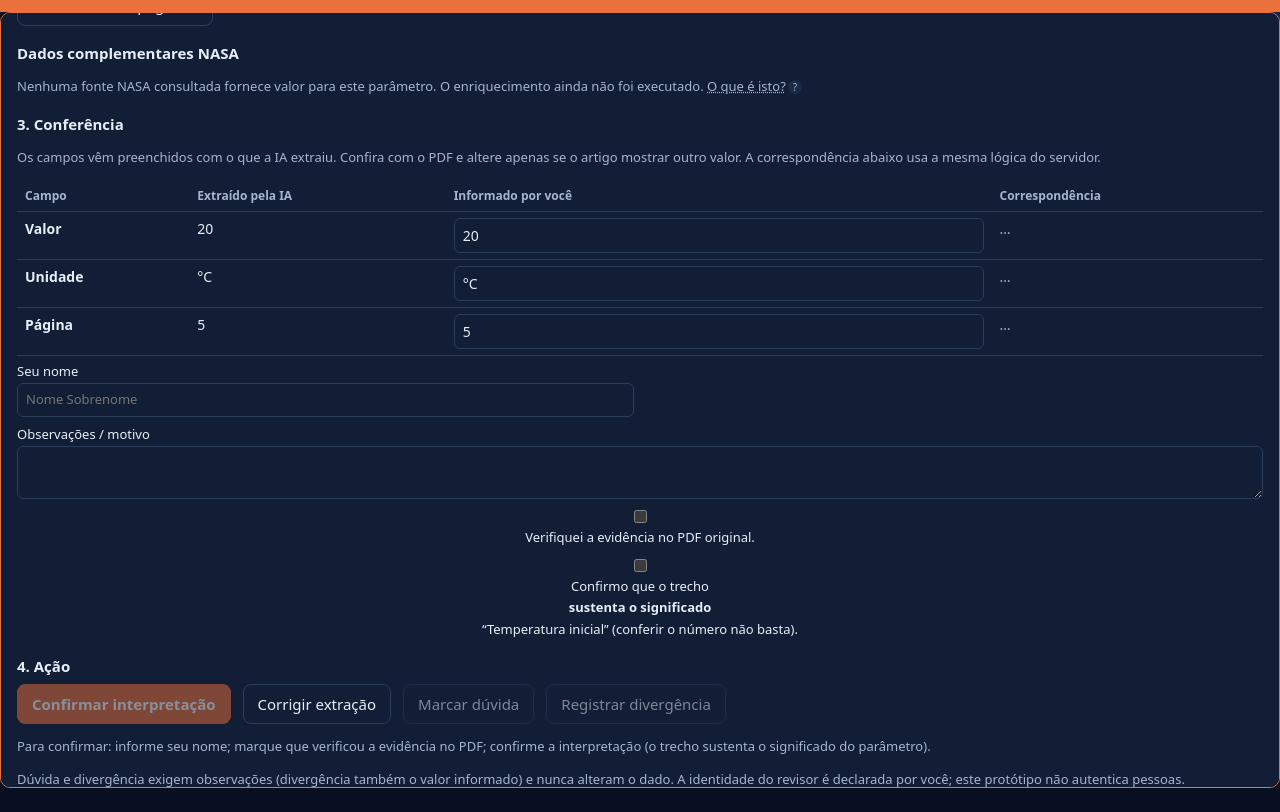
Test: recusas do servidor › mostram qual campo divergiu, com a tabela de comparação
The width and height of the screenshot is (1280, 812).
(page scrolled)
Type "Ana Souza" into the field labelled "Seu nome" at (326,400), box 17,383 -> 634,416
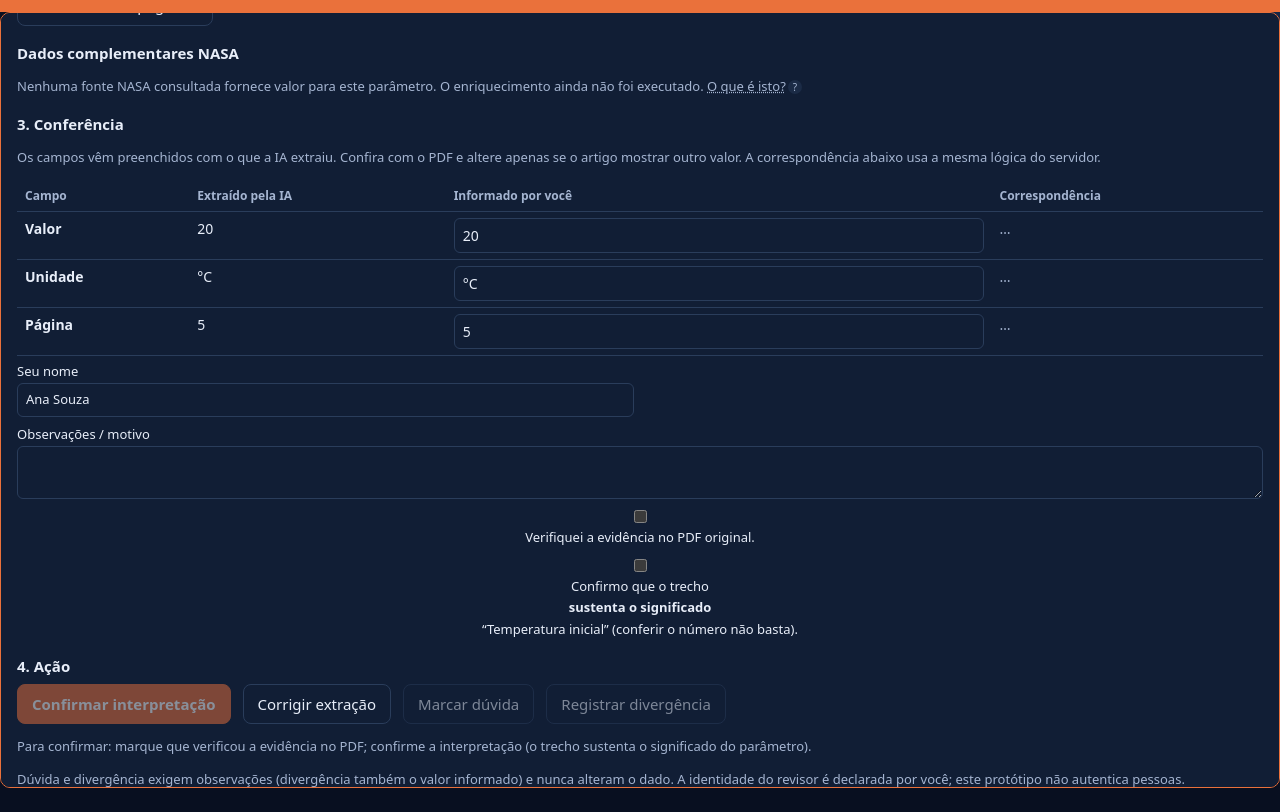
Click the checkbox labelled "Verifiquei a evidência no PDF original." at (640,516), box 634,510 -> 647,523
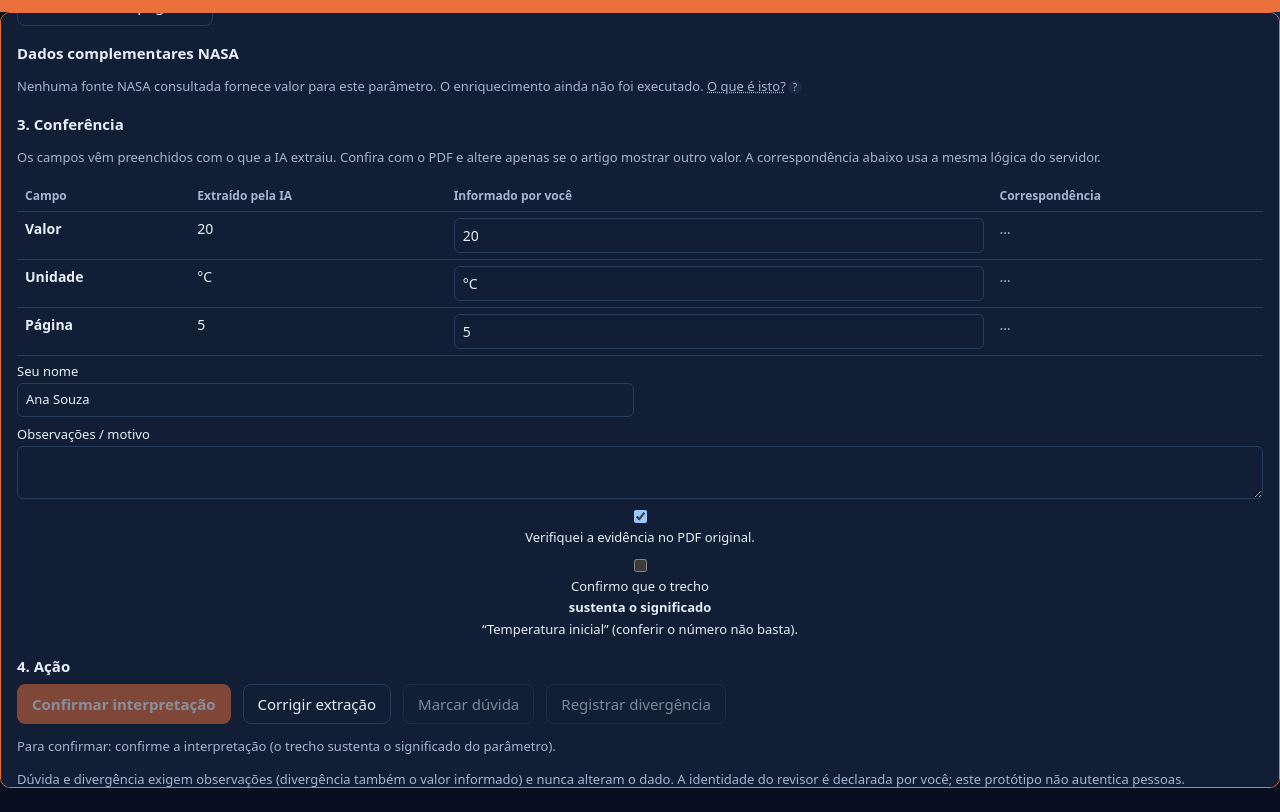
Click the checkbox labelled "Confirmo que o trecho" at (640,565), box 634,558 -> 647,572
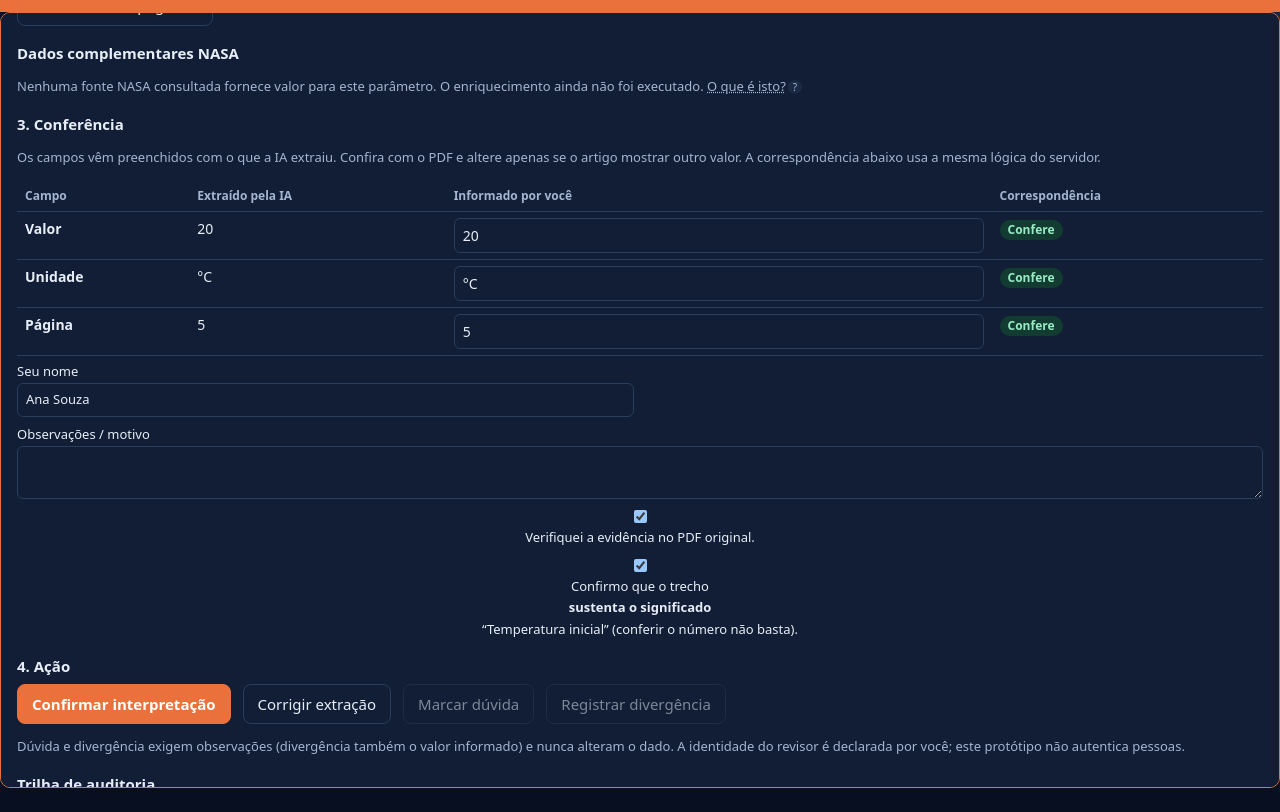
expect the button "Confirmar interpretação" is enabled: met
Click the button "Confirmar interpretação" at (124,704), box 17,684 -> 230,724
(page scrolled)
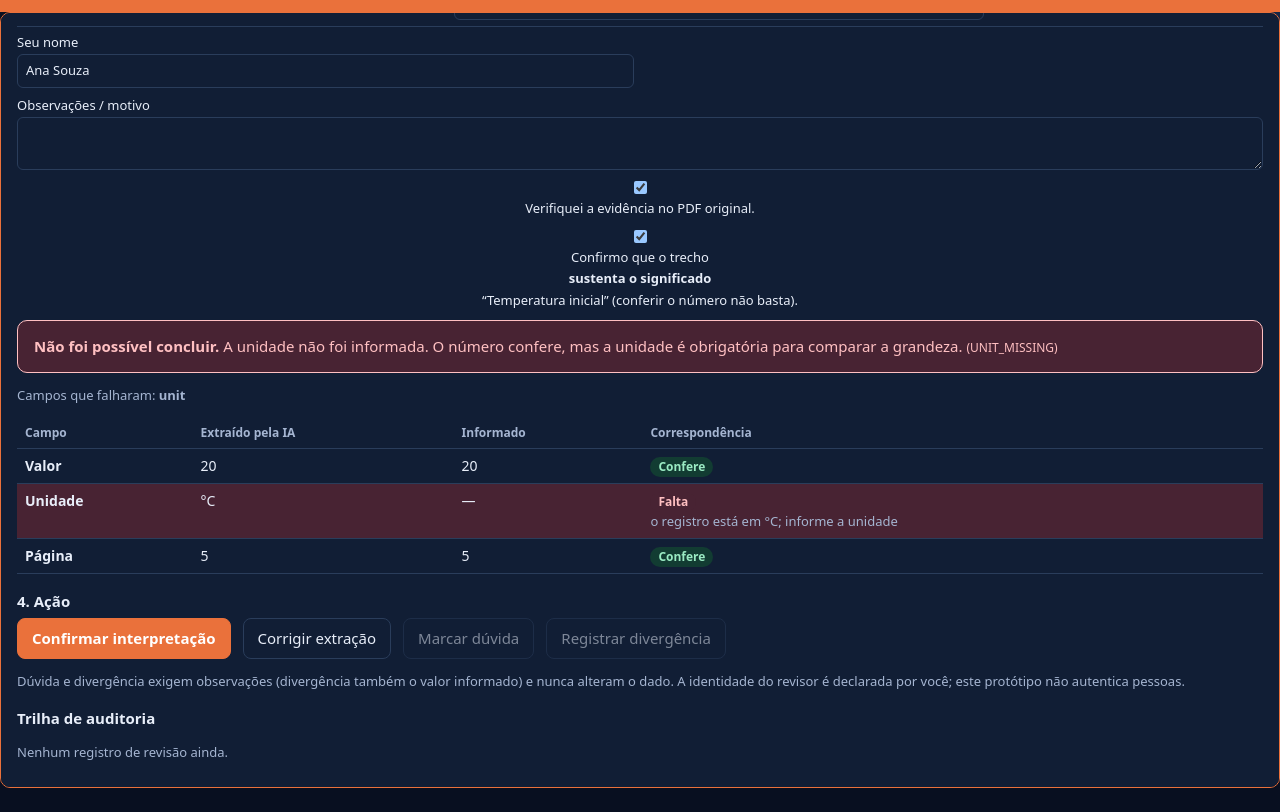
expect the message shows "A unidade não foi informada": met, box 223,336 -> 963,356
expect the message shows "Campos que falharam: unit": met, box 17,320 -> 1263,574
